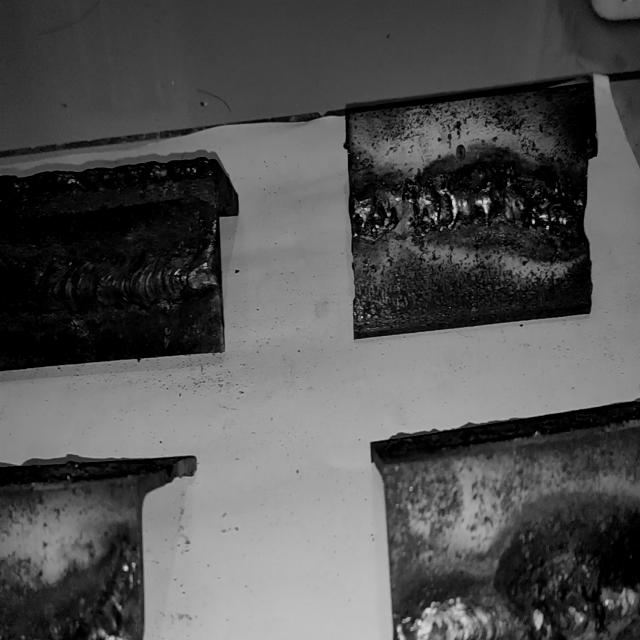Defect: (527, 533, 640, 639), (492, 164, 582, 255), (354, 176, 426, 243)
Good Weld: (5, 243, 222, 318)
